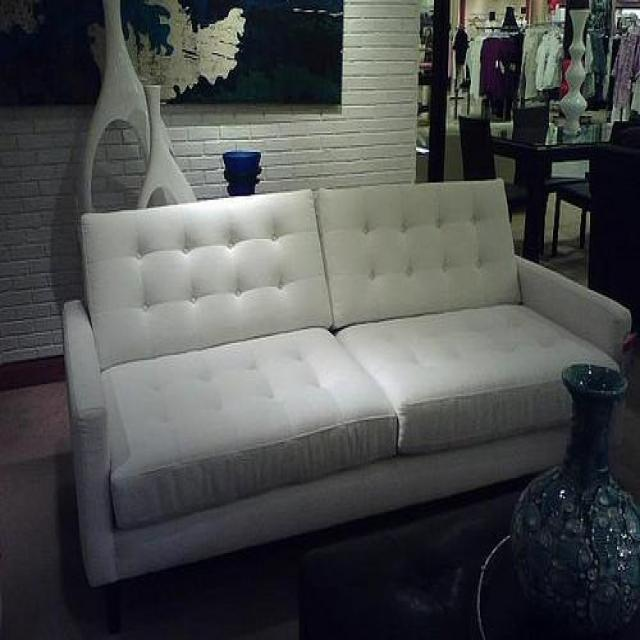sofa: (59, 175, 634, 587)
